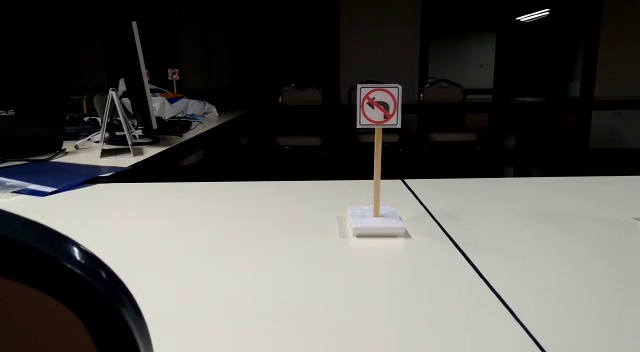sola_donulmez: (361, 85, 401, 126)
